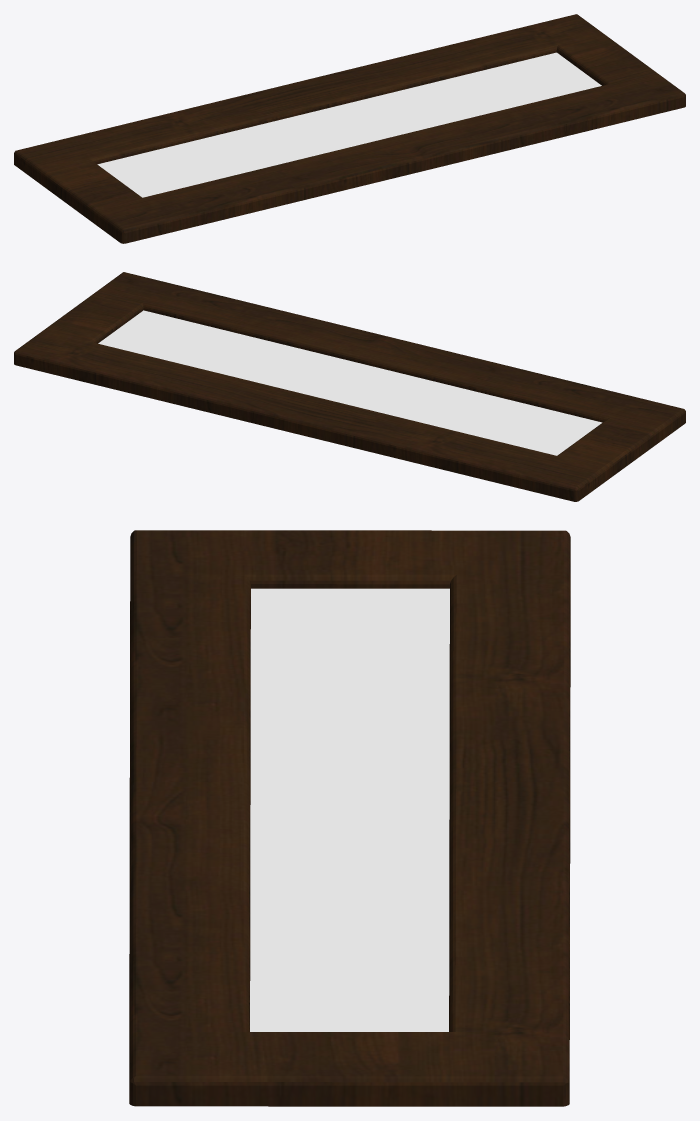
File: QD-清茶垫.fbx
3 renders of one model, top to bottom at view 1: azimuth 30°, elevation 25°; view 2: azimuth 150°, elevation 25°; view 3: azimuth 270°, elevation 25°, orthographic. The views are drawn at different scales.
Parts seen in each view (by area): view 1: QD-清茶垫; view 2: QD-清茶垫; view 3: QD-清茶垫.
Part boxes in pixels (bbox=[...]): QD-清茶垫: bbox=[14, 14, 685, 243]; QD-清茶垫: bbox=[14, 272, 685, 501]; QD-清茶垫: bbox=[129, 530, 570, 1106].
Bounding box in the file's own units: 0.5952 × 0.2014 × 0.0139.
